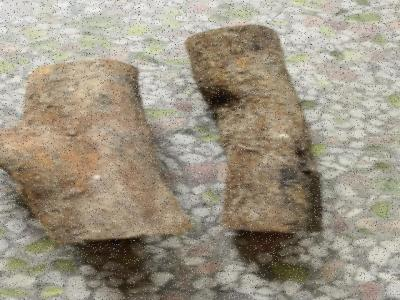Root: (1, 60, 191, 242), (186, 25, 316, 234)
